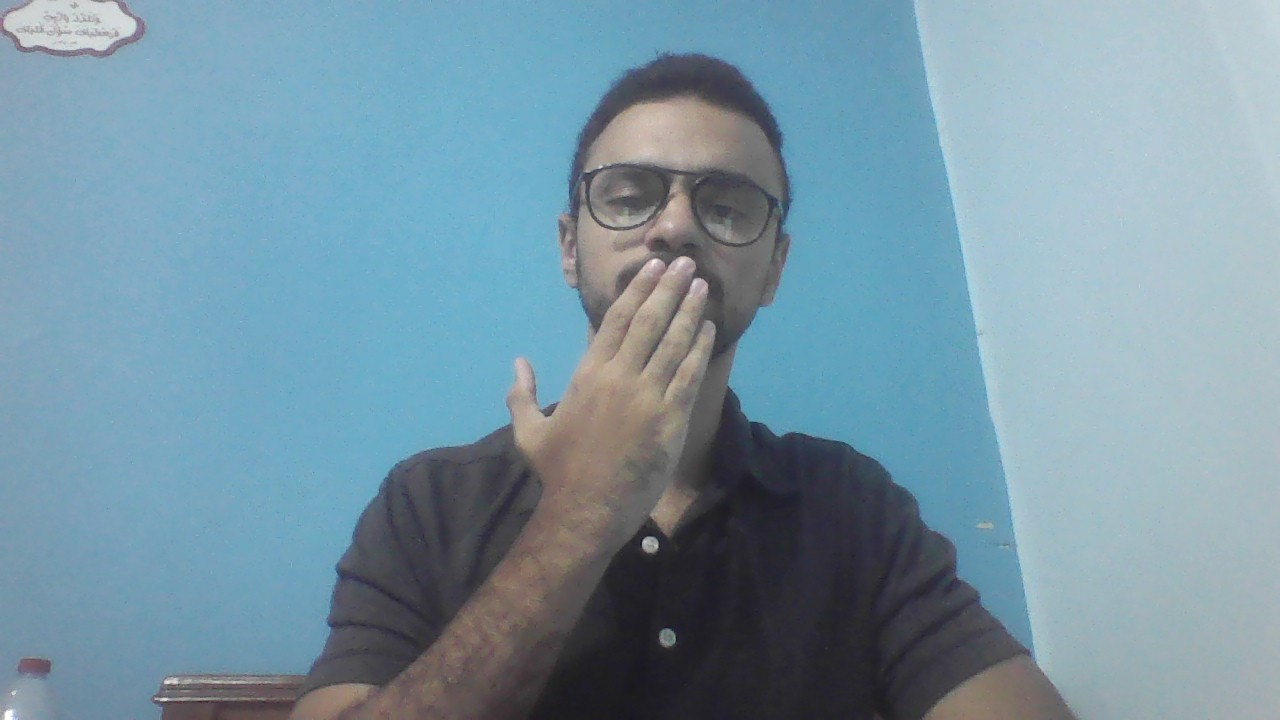thankyou: (506, 255, 717, 515)
